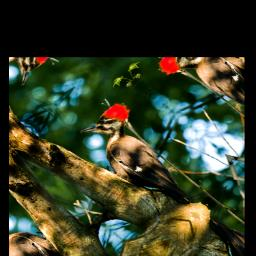Woodpecker: (67, 97, 217, 224)
